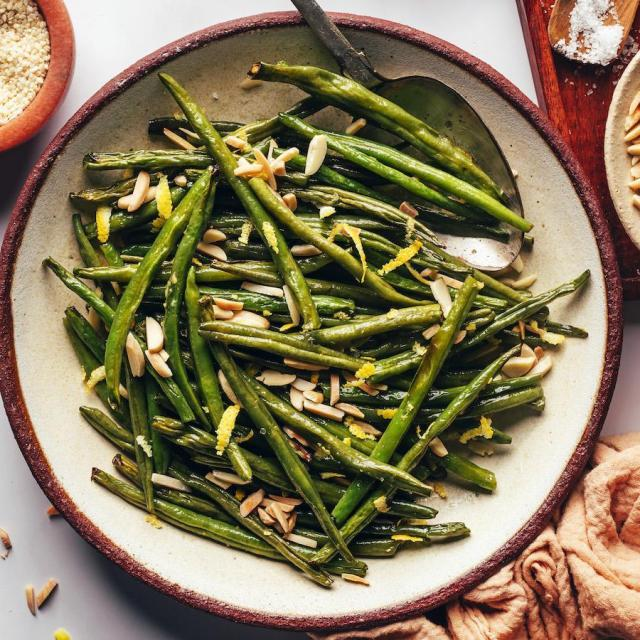Beans: (37, 51, 597, 577)
